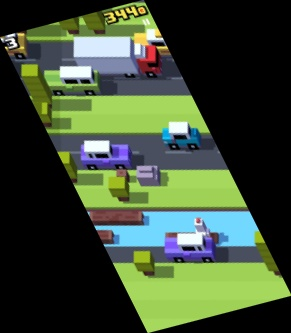car: (42, 65, 102, 93), (78, 140, 132, 170), (164, 233, 216, 263), (133, 28, 176, 59), (161, 122, 201, 151), (1, 32, 28, 60)
duck: (193, 219, 212, 241)
log: (89, 210, 147, 227), (162, 231, 219, 242), (77, 231, 115, 242)
rock: (136, 166, 162, 184)
stump: (116, 169, 130, 182)
tree: (253, 232, 289, 276), (21, 65, 54, 107), (54, 1, 79, 34), (78, 3, 103, 35), (56, 152, 80, 185), (133, 252, 156, 277), (108, 177, 130, 202), (33, 102, 52, 127)
truck: (73, 37, 162, 78)
water: (85, 212, 269, 247)
